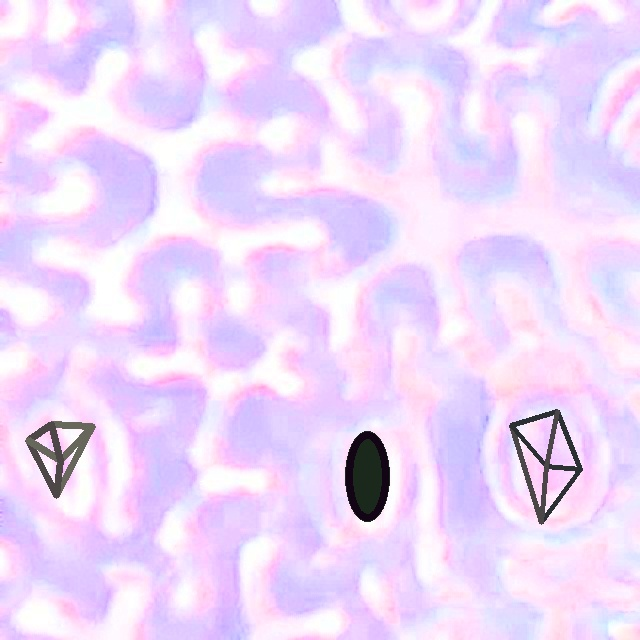close: (509, 409, 582, 524)
open: (25, 421, 95, 498), (345, 432, 388, 521)
